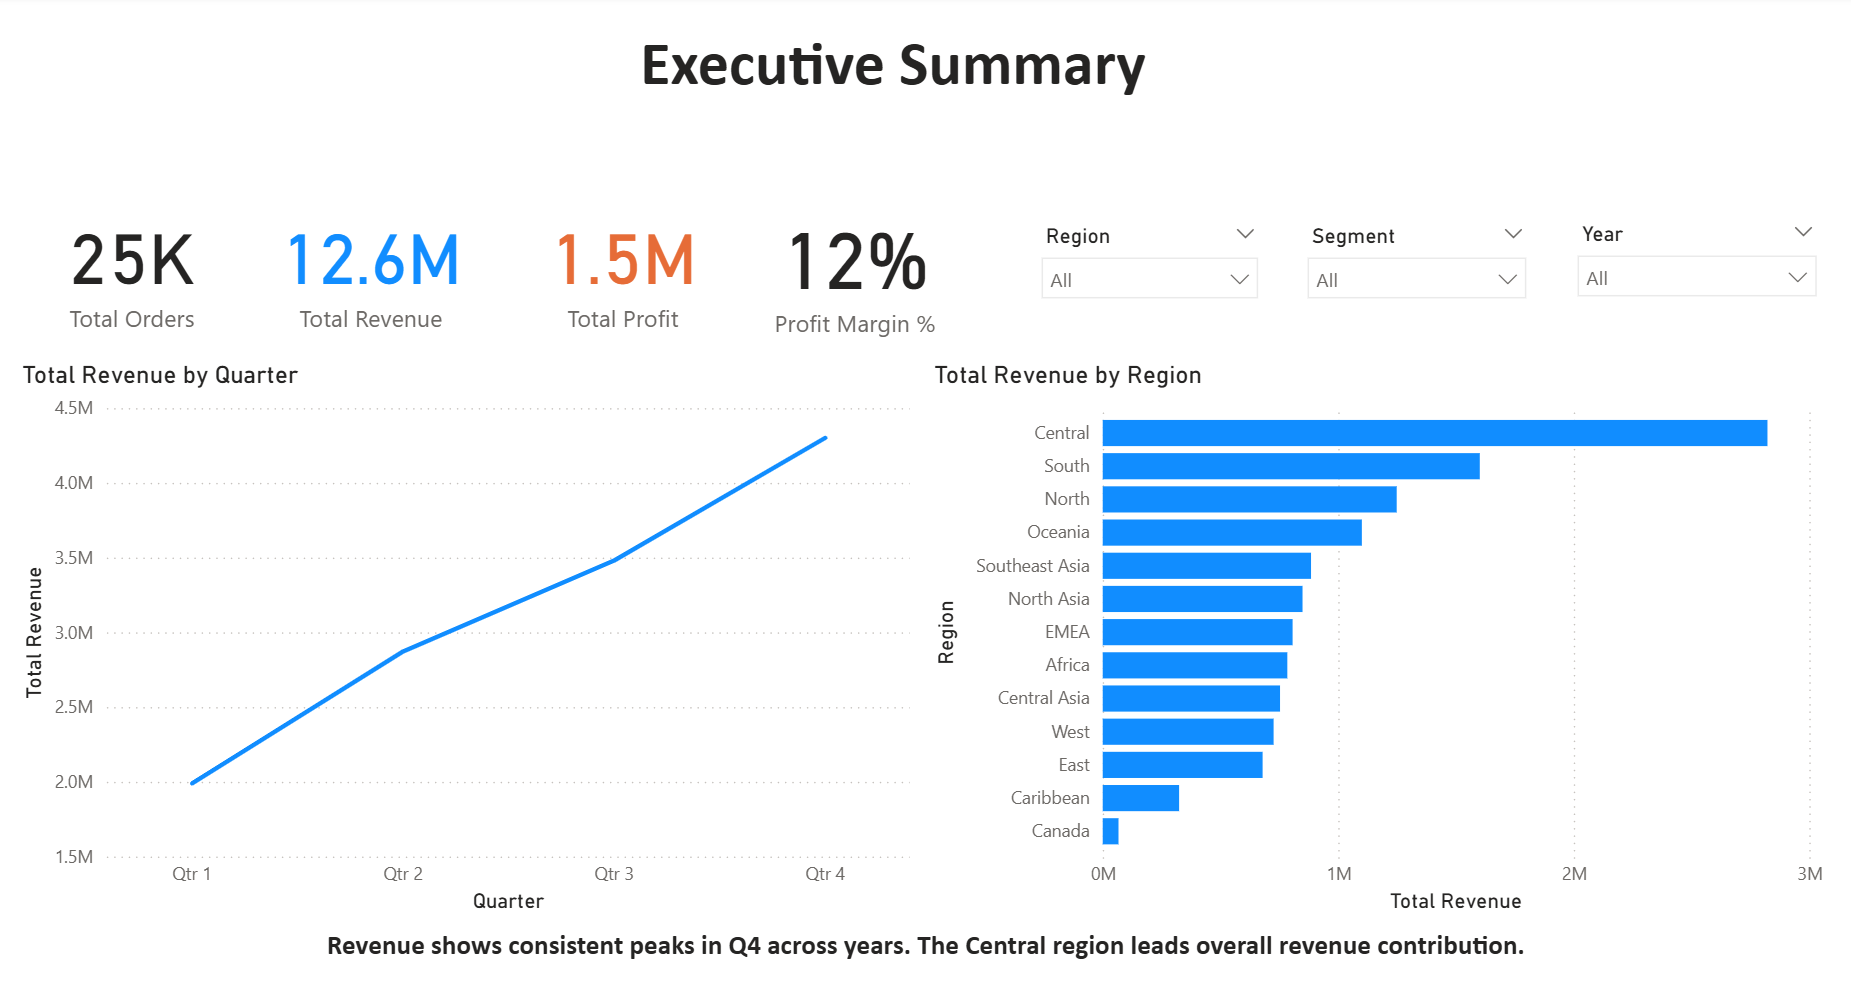

The dashboard page shown, as its layout file describes it:
{"tool":"powerbi","page":{"name":"Page 1","canvas":[1280,720],"ordinal":0},"visuals":[{"type":"card","fields":{"Values":["SuperStoreOrders.Total Orders"]},"box":[15.1,123.4,160.5,127.5],"z":0},{"type":"card","fields":{"Values":["SuperStoreOrders.Profit Margin %"]},"box":[521.1,123.4,139.9,127.5],"z":1000},{"type":"card","fields":{"Values":["SuperStoreOrders.Total Revenue"]},"box":[175.5,123.4,167.3,127.5],"z":2000},{"type":"card","fields":{"Values":["SuperStoreOrders.Total Profit"]},"box":[342.9,123.4,178.3,127.5],"z":3000},{"type":"textbox","box":[65.2,16.7,1102.6,63.7],"z":4000},{"type":"lineChart","fields":{"Y":["SuperStoreOrders.Total Revenue"],"Category":["SuperStoreOrders.order_date.Variation.Date Hierarchy.Quarter"]},"box":[15.1,251,618.5,384],"z":5000},{"type":"barChart","fields":{"Y":["SuperStoreOrders.Total Revenue"],"Category":["SuperStoreOrders.region"]},"box":[640.5,251,624,384],"z":6000},{"type":"slicer","fields":{"Values":["SuperStoreOrders.region"]},"box":[709,152.2,168.7,72.7],"z":7000},{"type":"slicer","fields":{"Values":["SuperStoreOrders.segment"]},"box":[891.4,152.2,170.1,68.6],"z":8000},{"type":"slicer","fields":{"Values":["SuperStoreOrders.order_date.Variation.Date Hierarchy.Year"]},"box":[1076.6,150.9,183.8,72.7],"z":9000},{"type":"textbox","box":[0,635,1279.5,48],"z":10000}]}

Visuals, with their boxes on the page's 1280x720 design canvas (x1, y1, x2, y2). These are canvas units, not pixel positions in the 1851x994 screenshot, which may show the page scaled, cropped or inside an application window:
card - SuperStoreOrders.Total Orders: 15 123 176 251
card - SuperStoreOrders.Profit Margin %: 521 123 661 251
card - SuperStoreOrders.Total Revenue: 176 123 343 251
card - SuperStoreOrders.Total Profit: 343 123 521 251
textbox: 65 17 1168 80
lineChart - SuperStoreOrders.Total Revenue x SuperStoreOrders.order_date.Variation.Date Hierarchy.Quarter: 15 251 634 635
barChart - SuperStoreOrders.Total Revenue x SuperStoreOrders.region: 640 251 1264 635
slicer - SuperStoreOrders.region: 709 152 878 225
slicer - SuperStoreOrders.segment: 891 152 1062 221
slicer - SuperStoreOrders.order_date.Variation.Date Hierarchy.Year: 1077 151 1260 224
textbox: 0 635 1280 683
